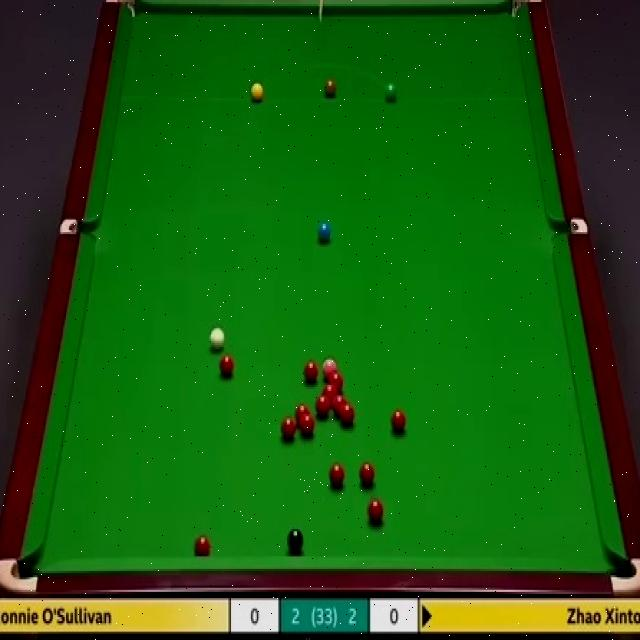black-ball: (285, 526, 304, 550)
blue-ball: (317, 222, 332, 240)
brown-ball: (325, 79, 336, 98)
green-ball: (383, 80, 399, 103)
pink-ball: (318, 360, 336, 374)
red-ball: (390, 406, 406, 434), (192, 534, 211, 556), (218, 353, 234, 378), (301, 410, 316, 436), (338, 402, 355, 424), (368, 499, 382, 525), (315, 394, 330, 418), (358, 461, 374, 483), (331, 466, 345, 490), (320, 383, 336, 402), (332, 391, 346, 412), (282, 420, 296, 440), (305, 360, 317, 382), (328, 372, 342, 390)
white-ball: (210, 330, 225, 352)
yellow-ball: (250, 81, 264, 103)
